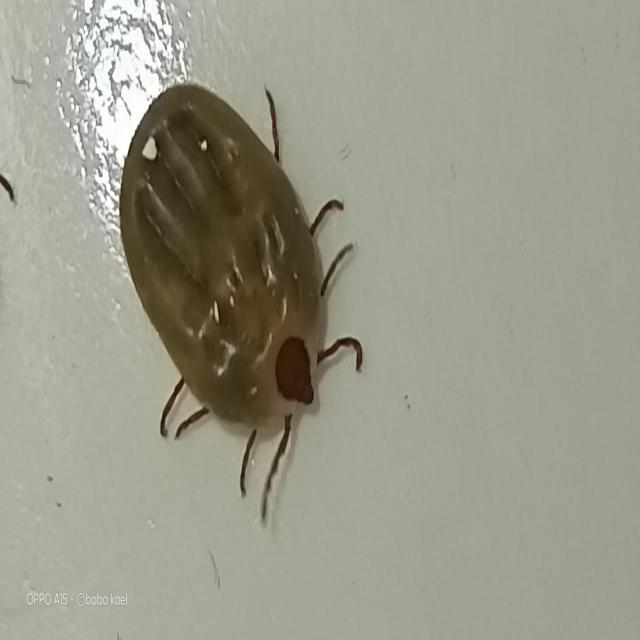Rhipicephalus Sanguineus-F-Fed: (117, 83, 365, 534)
